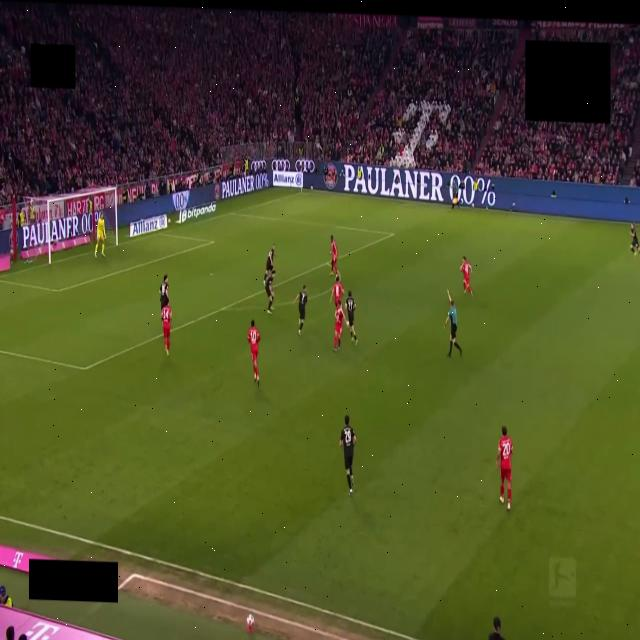player: (496, 427, 512, 510), (340, 415, 356, 496), (445, 290, 461, 358), (248, 320, 260, 386), (294, 285, 307, 335), (346, 291, 357, 344), (161, 304, 172, 355), (334, 302, 344, 351), (460, 257, 472, 296), (95, 213, 105, 259), (264, 244, 275, 284), (330, 276, 343, 306), (330, 236, 338, 279), (265, 275, 273, 313), (160, 275, 169, 308), (630, 223, 639, 255), (451, 180, 460, 208)
